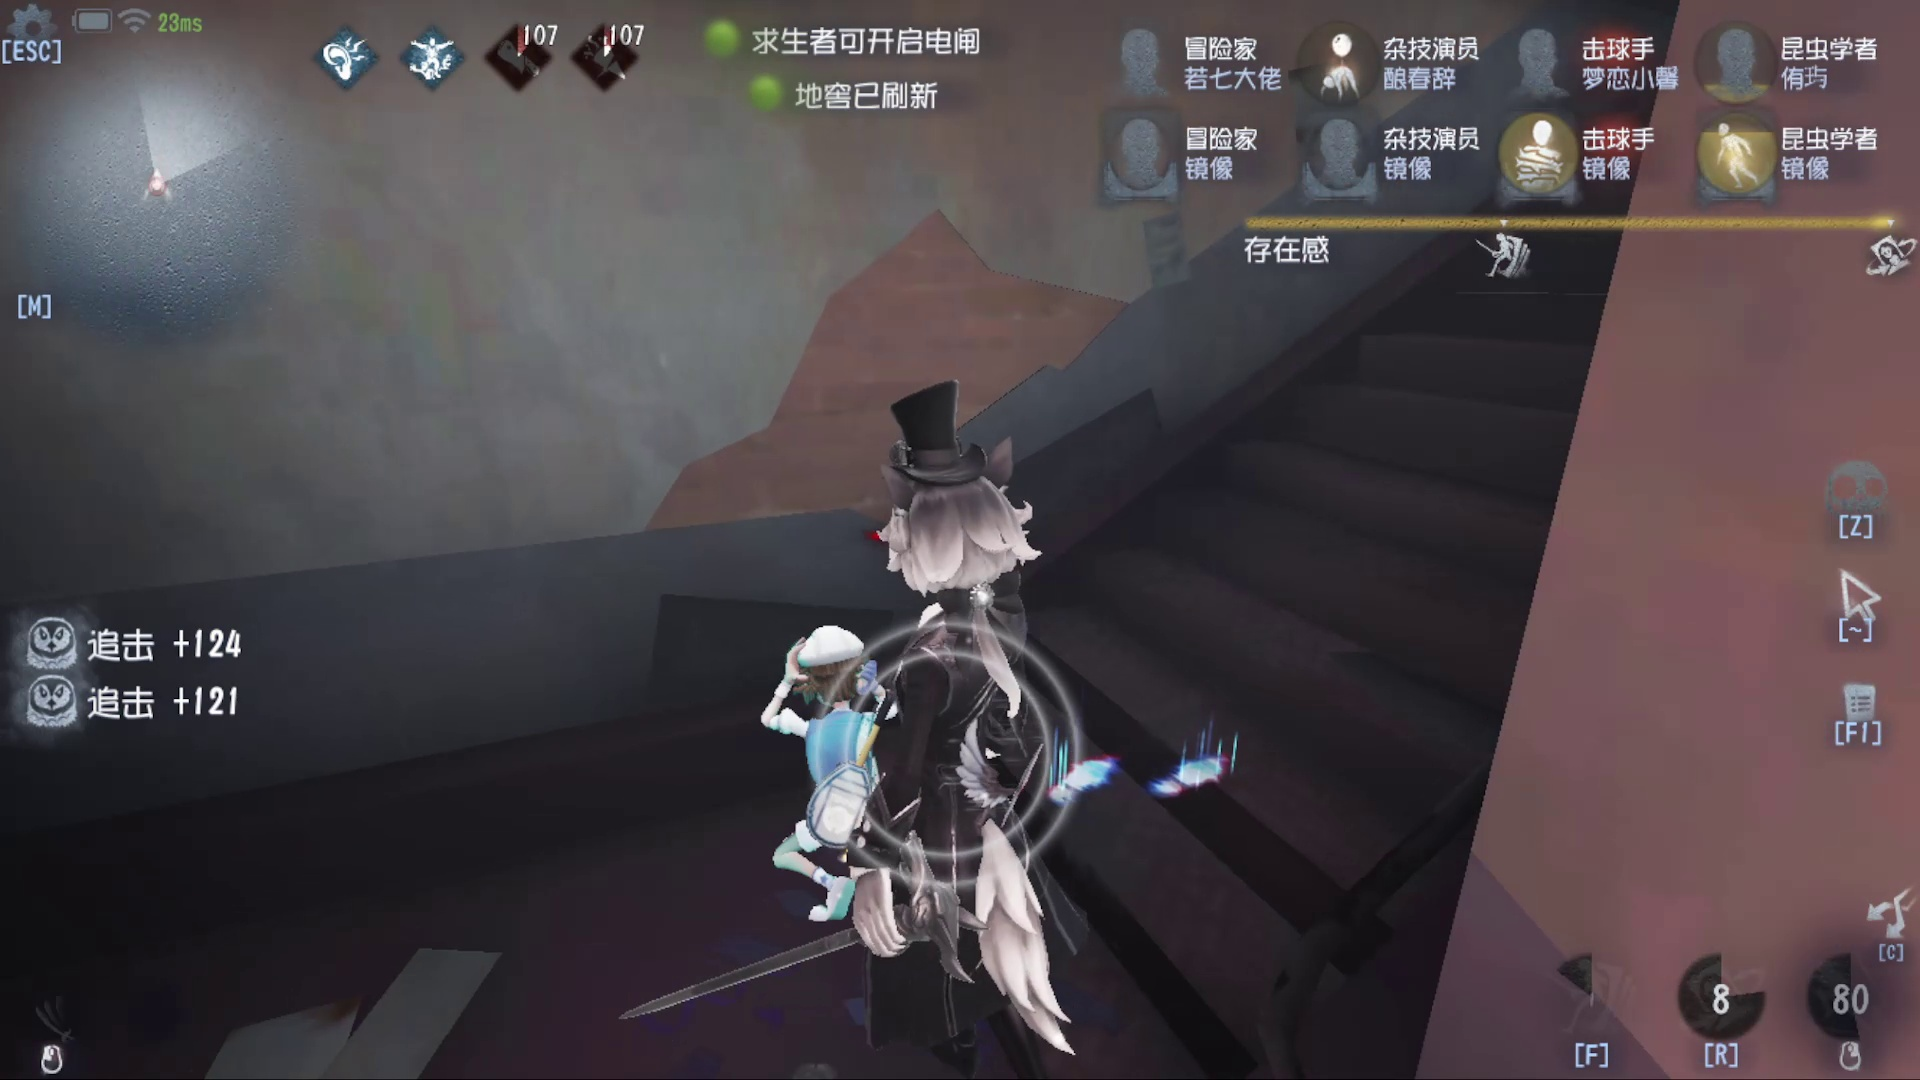求生者: (735, 615, 880, 913)
